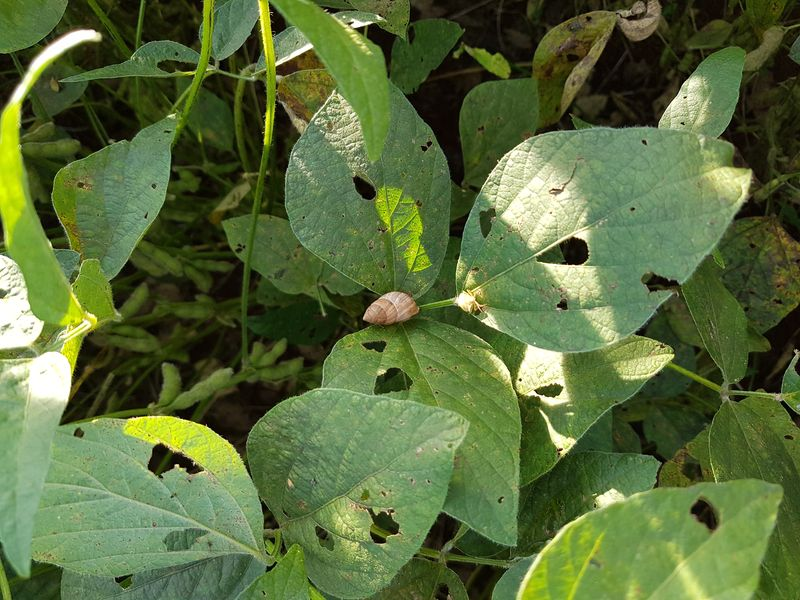Euschistus_heros_ninfa: (448, 285, 488, 322)
Gastropoda: (355, 284, 425, 334)
